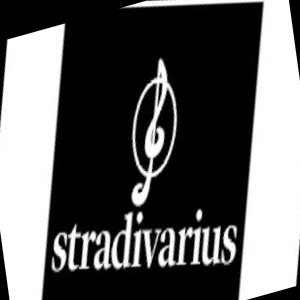stradivarius: (227, 0, 271, 29)
